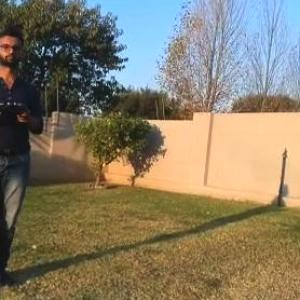follow: (0, 23, 54, 296)
